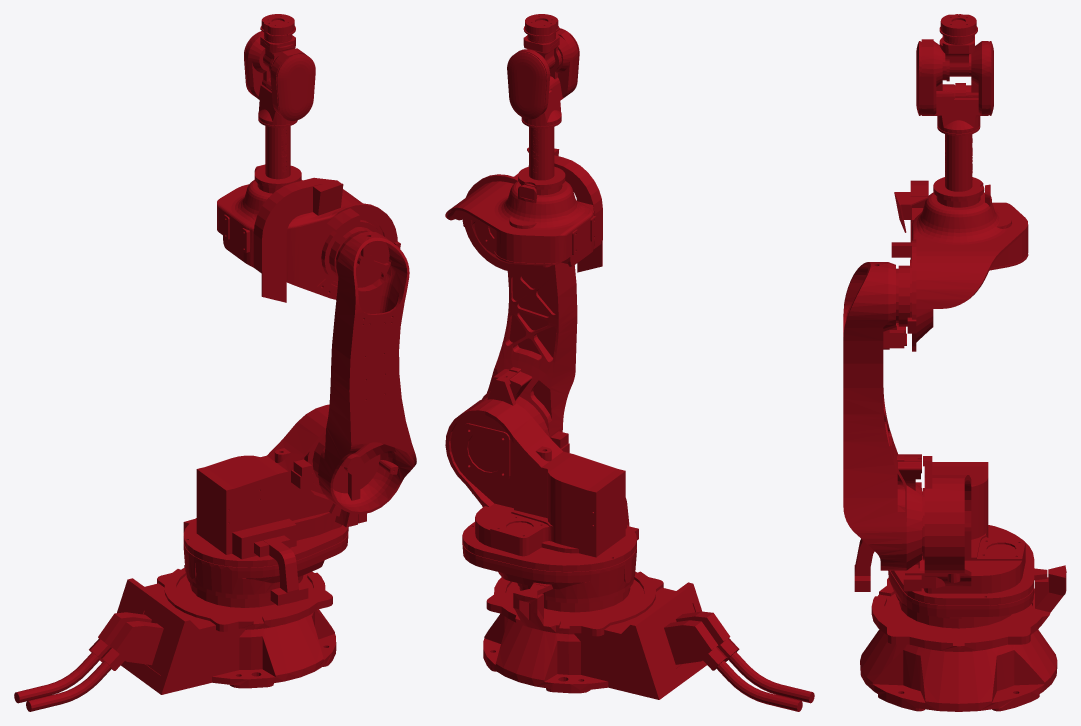
The model's file is Comau_ns16hand.glb.
3 renders of one model, left to right at view 1: azimuth 30°, elevation 25°; view 2: azimuth 150°, elevation 25°; view 3: azimuth 270°, elevation 25°, orthographic. The views are drawn at different scales.
Parts seen in each view (by area): view 1: base_link_bodies, Link_1_bodies, Link_2_bodies, Link_3_bodies, Link_4_bodies, Link_5_bodies, Link_6_bodies; view 2: Link_1_bodies, base_link_bodies, Link_3_bodies, Link_2_bodies, Link_4_bodies, Link_5_bodies, Link_6_bodies; view 3: base_link_bodies, Link_2_bodies, Link_1_bodies, Link_3_bodies, Link_4_bodies, Link_5_bodies, Link_6_bodies.
Boxes of the visible parts, left/top/right/bottom form: base_link_bodies: left=14, top=519, right=336, bottom=711; Link_1_bodies: left=183, top=404, right=366, bottom=605; Link_2_bodies: left=318, top=231, right=416, bottom=514; Link_3_bodies: left=217, top=164, right=400, bottom=302; Link_4_bodies: left=244, top=31, right=315, bottom=185; Link_5_bodies: left=260, top=32, right=295, bottom=73; Link_6_bodies: left=260, top=14, right=295, bottom=37; Link_1_bodies: left=445, top=376, right=638, bottom=603; base_link_bodies: left=483, top=571, right=814, bottom=711; Link_3_bodies: left=445, top=147, right=602, bottom=272; Link_2_bodies: left=482, top=262, right=577, bottom=437; Link_4_bodies: left=507, top=28, right=579, bottom=186; Link_5_bodies: left=523, top=32, right=561, bottom=72; Link_6_bodies: left=523, top=14, right=559, bottom=37; base_link_bodies: left=860, top=565, right=1066, bottom=711; Link_2_bodies: left=843, top=262, right=922, bottom=570; Link_1_bodies: left=854, top=456, right=1047, bottom=618; Link_3_bodies: left=891, top=180, right=1028, bottom=351; Link_4_bodies: left=916, top=39, right=993, bottom=198; Link_5_bodies: left=939, top=35, right=974, bottom=81; Link_6_bodies: left=939, top=14, right=977, bottom=38.
Size of the model in its own units: 1.24 by 2.06 by 0.621.
